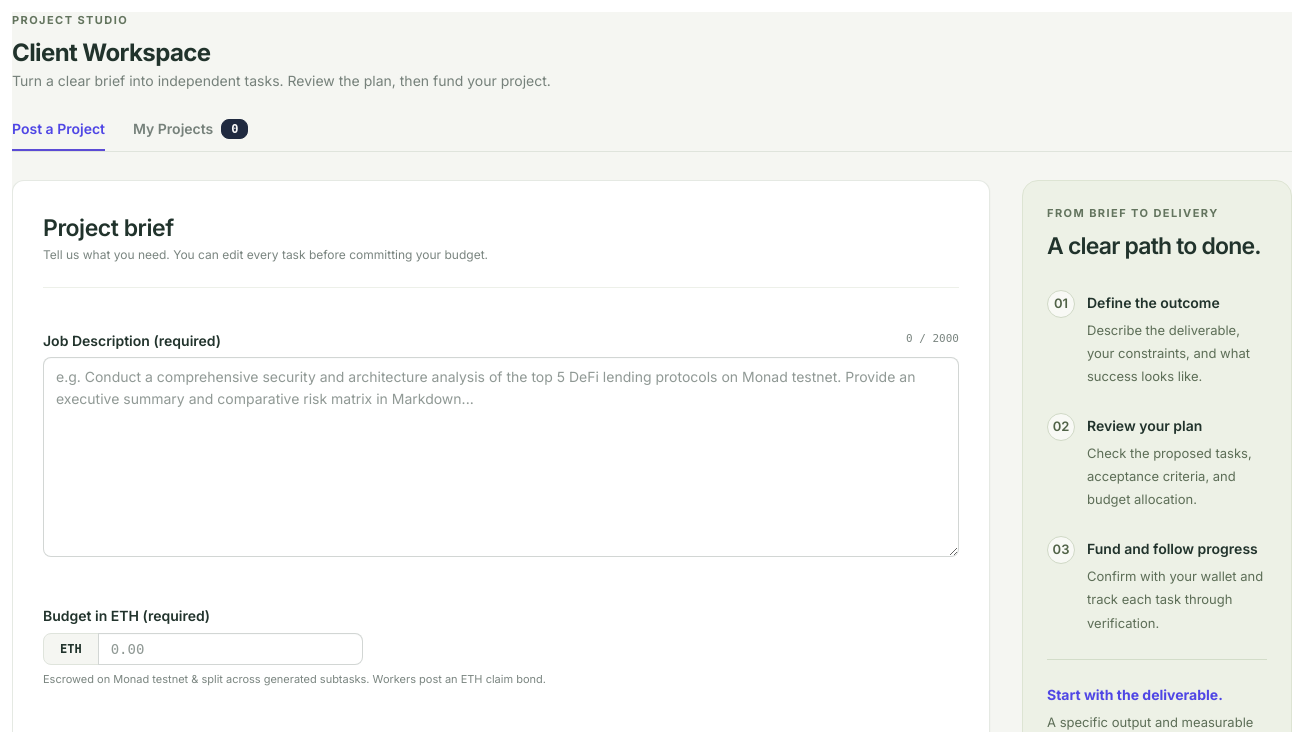
CustomerDashboard create-task validation › nudges the creator when the brief is too thin to decompose well
Step 1. Replace the text in the text box with id "task-description" with "do research" → point(501, 457), box [43,357,959,557]
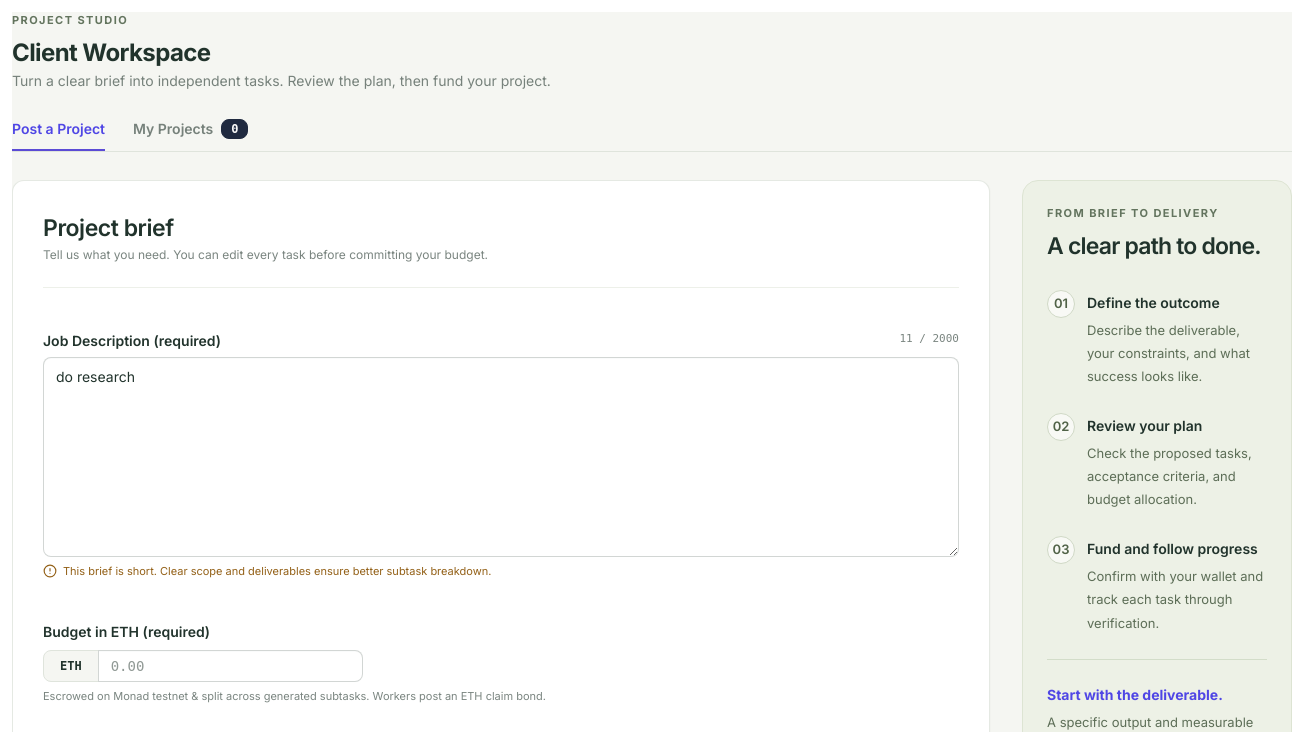
Expected: the text "This brief is short" is shown, [63,564,491,578]
